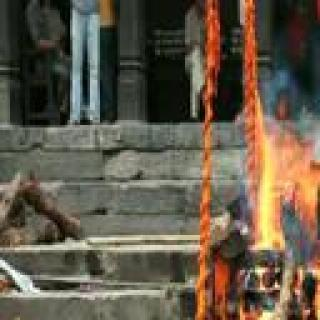fire: (247, 103, 320, 320)
